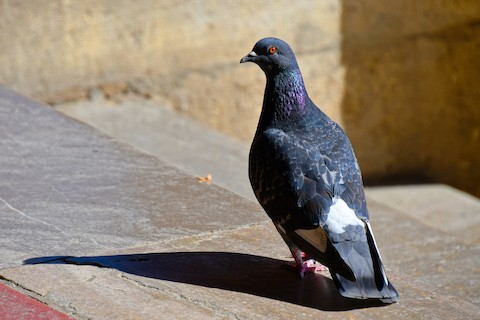pigeon: (231, 33, 407, 310)
